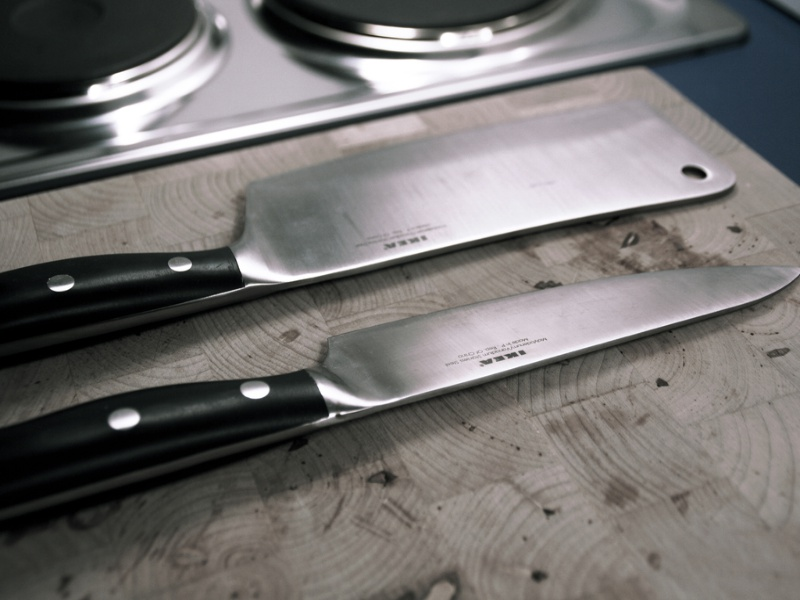knife: (1, 259, 799, 522), (7, 101, 742, 367)
